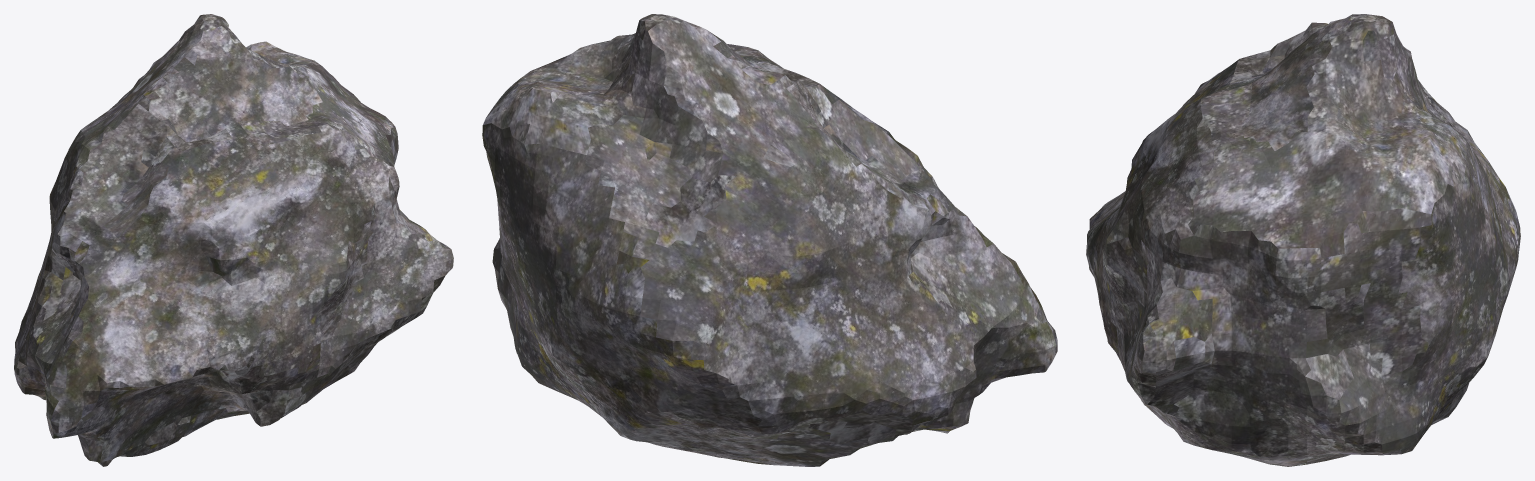
The model's file is Asteroid1.fbx.
3 views of the same model, side by side, from view 1: azimuth 30°, elevation 25°; view 2: azimuth 150°, elevation 25°; view 3: azimuth 270°, elevation 25° (orthographic). The views are drawn at different scales.
Parts seen in each view (by area): view 1: Icosphere; view 2: Icosphere; view 3: Icosphere.
Boxes of the visible parts, box(x1,y1,x2,y2) form: Icosphere: box(14, 14, 453, 466); Icosphere: box(482, 14, 1057, 466); Icosphere: box(1086, 14, 1520, 466).
Size of the model in its own units: 809 by 712 by 623.
